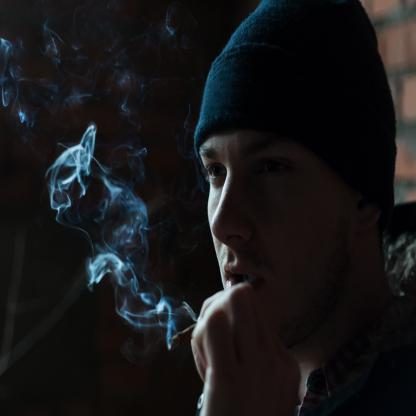smoking: (169, 318, 209, 349)
